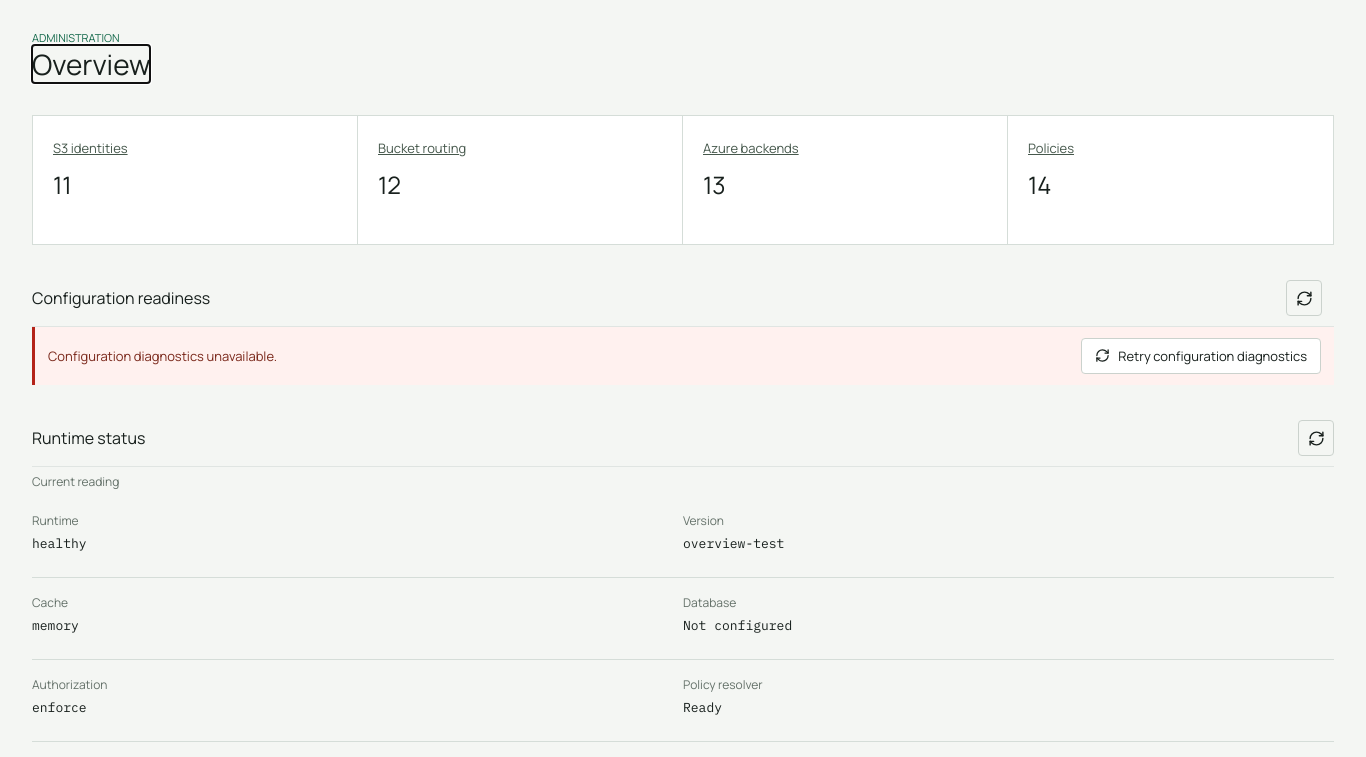
Test: OverviewPage interactions › shows unavailable diagnostics and retries without affecting runtime health
The width and height of the screenshot is (1366, 757).
Expected: the text "Configuration diagnostics unavailable." is shown, x1=48 y1=347 x2=277 y2=365
Expected: the text "overview-test" is shown, x1=683 y1=535 x2=784 y2=552
What coordinates should you click on to do the following:
click the button "Retry configuration diagnostics"
I would click on:
 (1201, 356)
Its box is x1=1081 y1=338 x2=1321 y2=374.
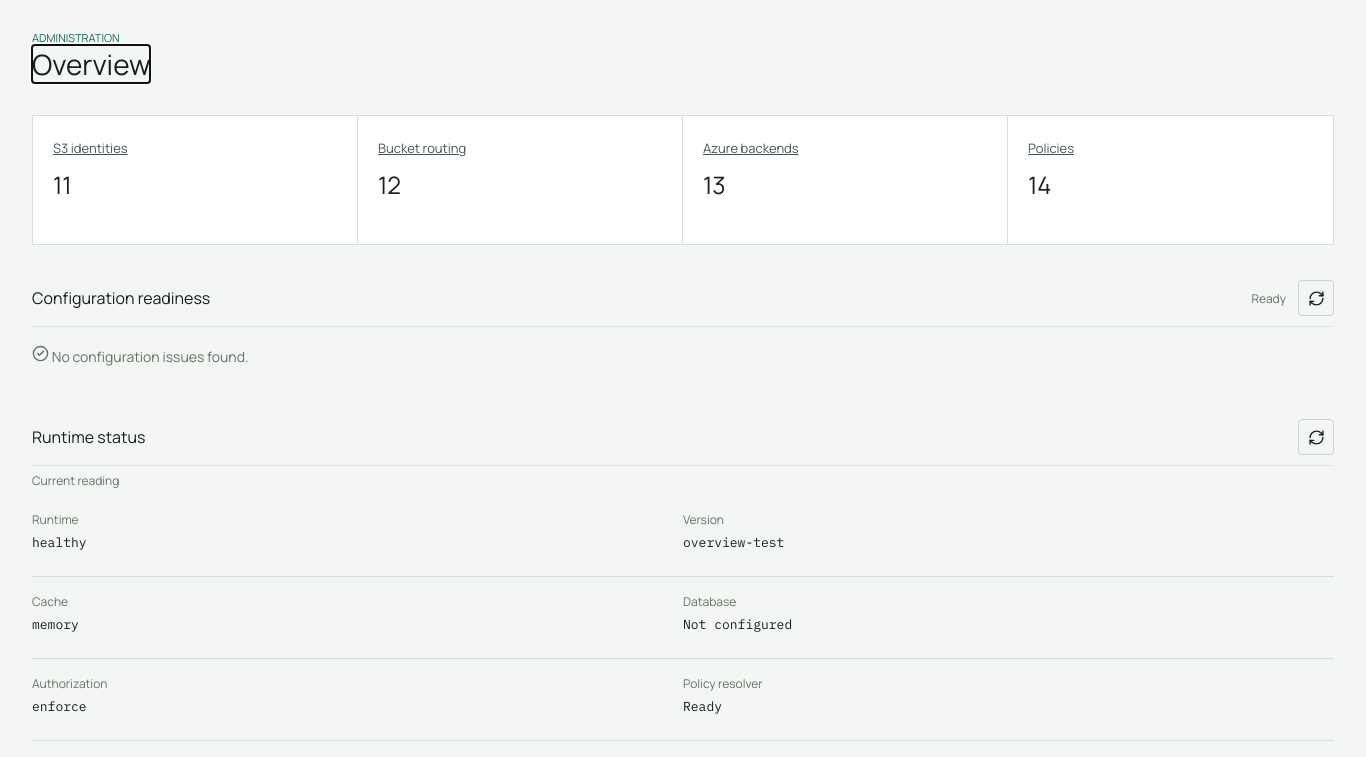
Expected: the text "No configuration issues found." is shown, x1=32 y1=345 x2=248 y2=366
